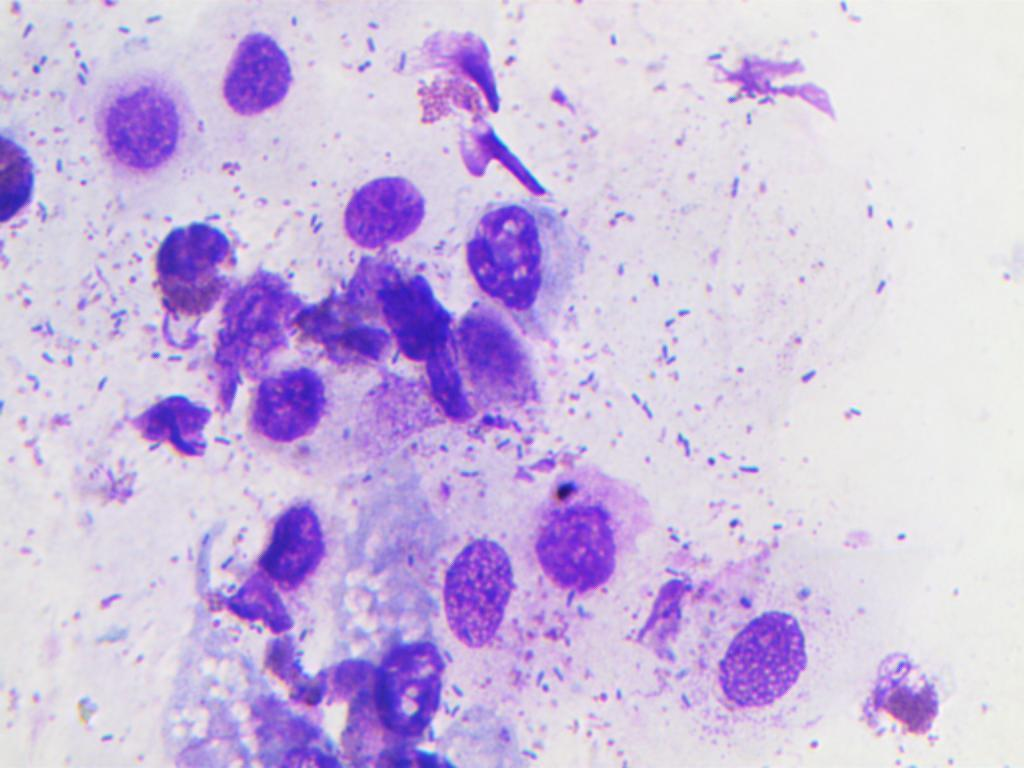eosinophil: (115, 209, 242, 340), (400, 24, 508, 124), (856, 646, 950, 740)
epithelial: (447, 193, 631, 318), (710, 569, 843, 725), (528, 441, 661, 588), (69, 46, 201, 184), (207, 10, 312, 160), (233, 359, 349, 446), (363, 630, 449, 746), (439, 532, 520, 643), (253, 487, 330, 596)
lymphocyte: (322, 167, 438, 254)
